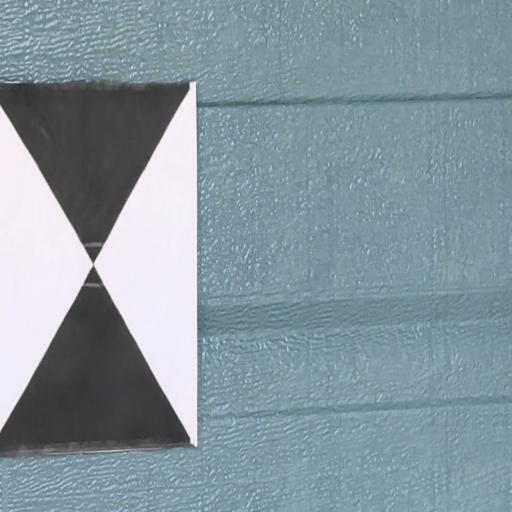target: (1, 84, 196, 448)
